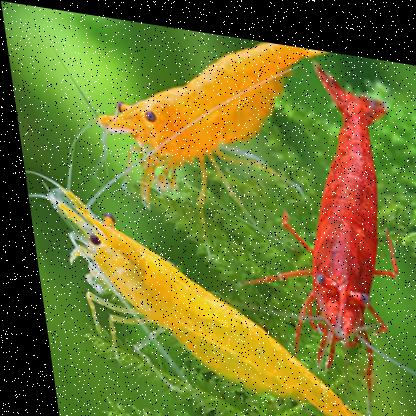shrimp: (34, 175, 387, 415), (80, 10, 345, 218), (268, 43, 415, 363)
